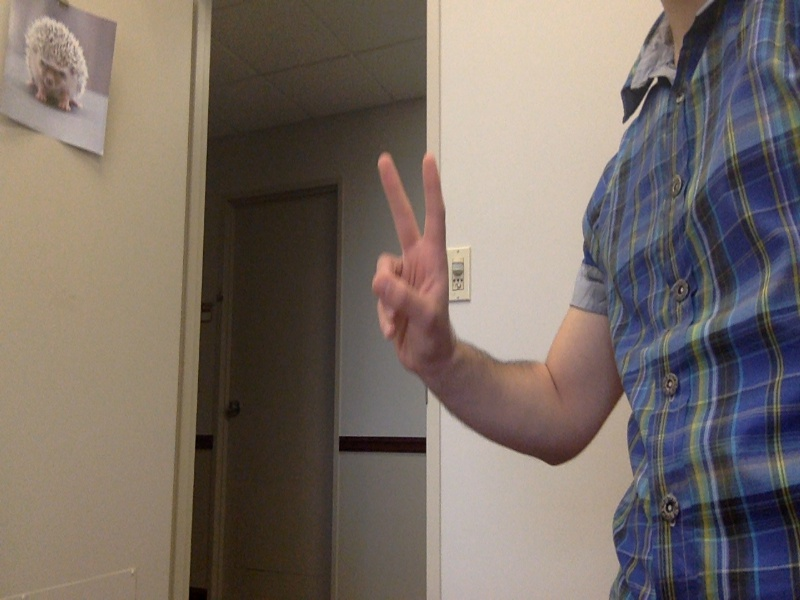2-hand: (367, 152, 455, 377)
